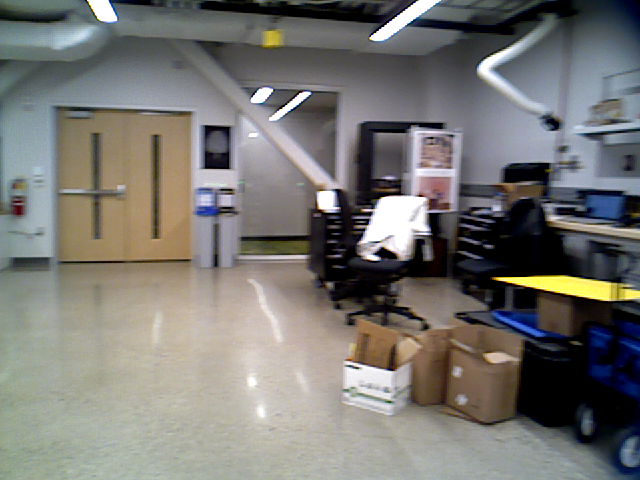painting1: (195, 123, 237, 172)
